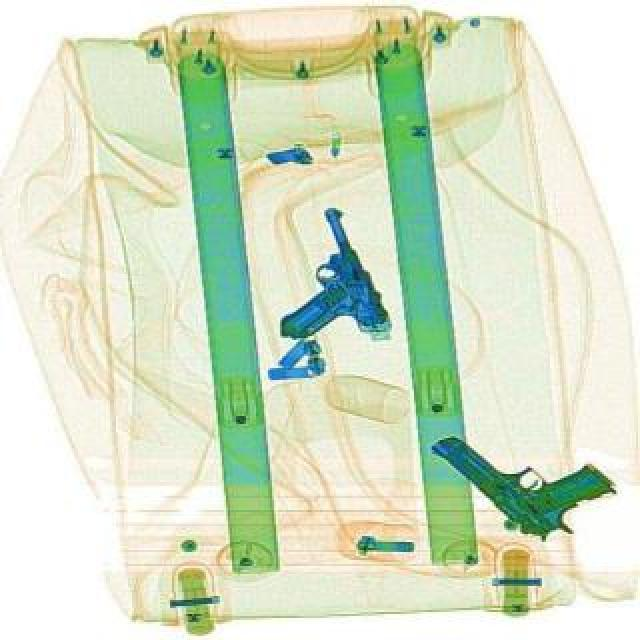gun: (424, 382, 616, 558), (236, 202, 388, 356)
